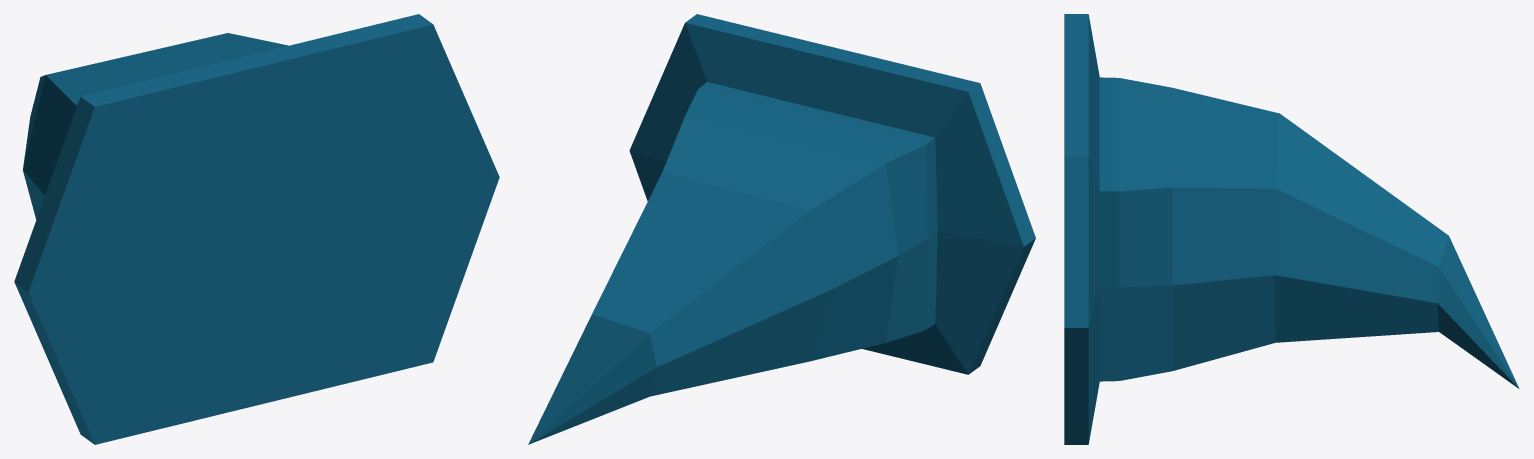
The model's file is PointedHat.fbx.
3 renders of one model, left to right at view 1: azimuth 30°, elevation 25°; view 2: azimuth 150°, elevation 25°; view 3: azimuth 270°, elevation 25°, orthographic. The views are drawn at different scales.
Parts seen in each view (by area): view 1: Pointed Hat; view 2: Pointed Hat; view 3: Pointed Hat.
Part boxes in pixels (x1,y1,x2,y2): Pointed Hat: [14, 14, 499, 444]; Pointed Hat: [528, 14, 1035, 444]; Pointed Hat: [1064, 14, 1519, 444].
Bounding box in the file's own units: 191 × 131 × 186.
